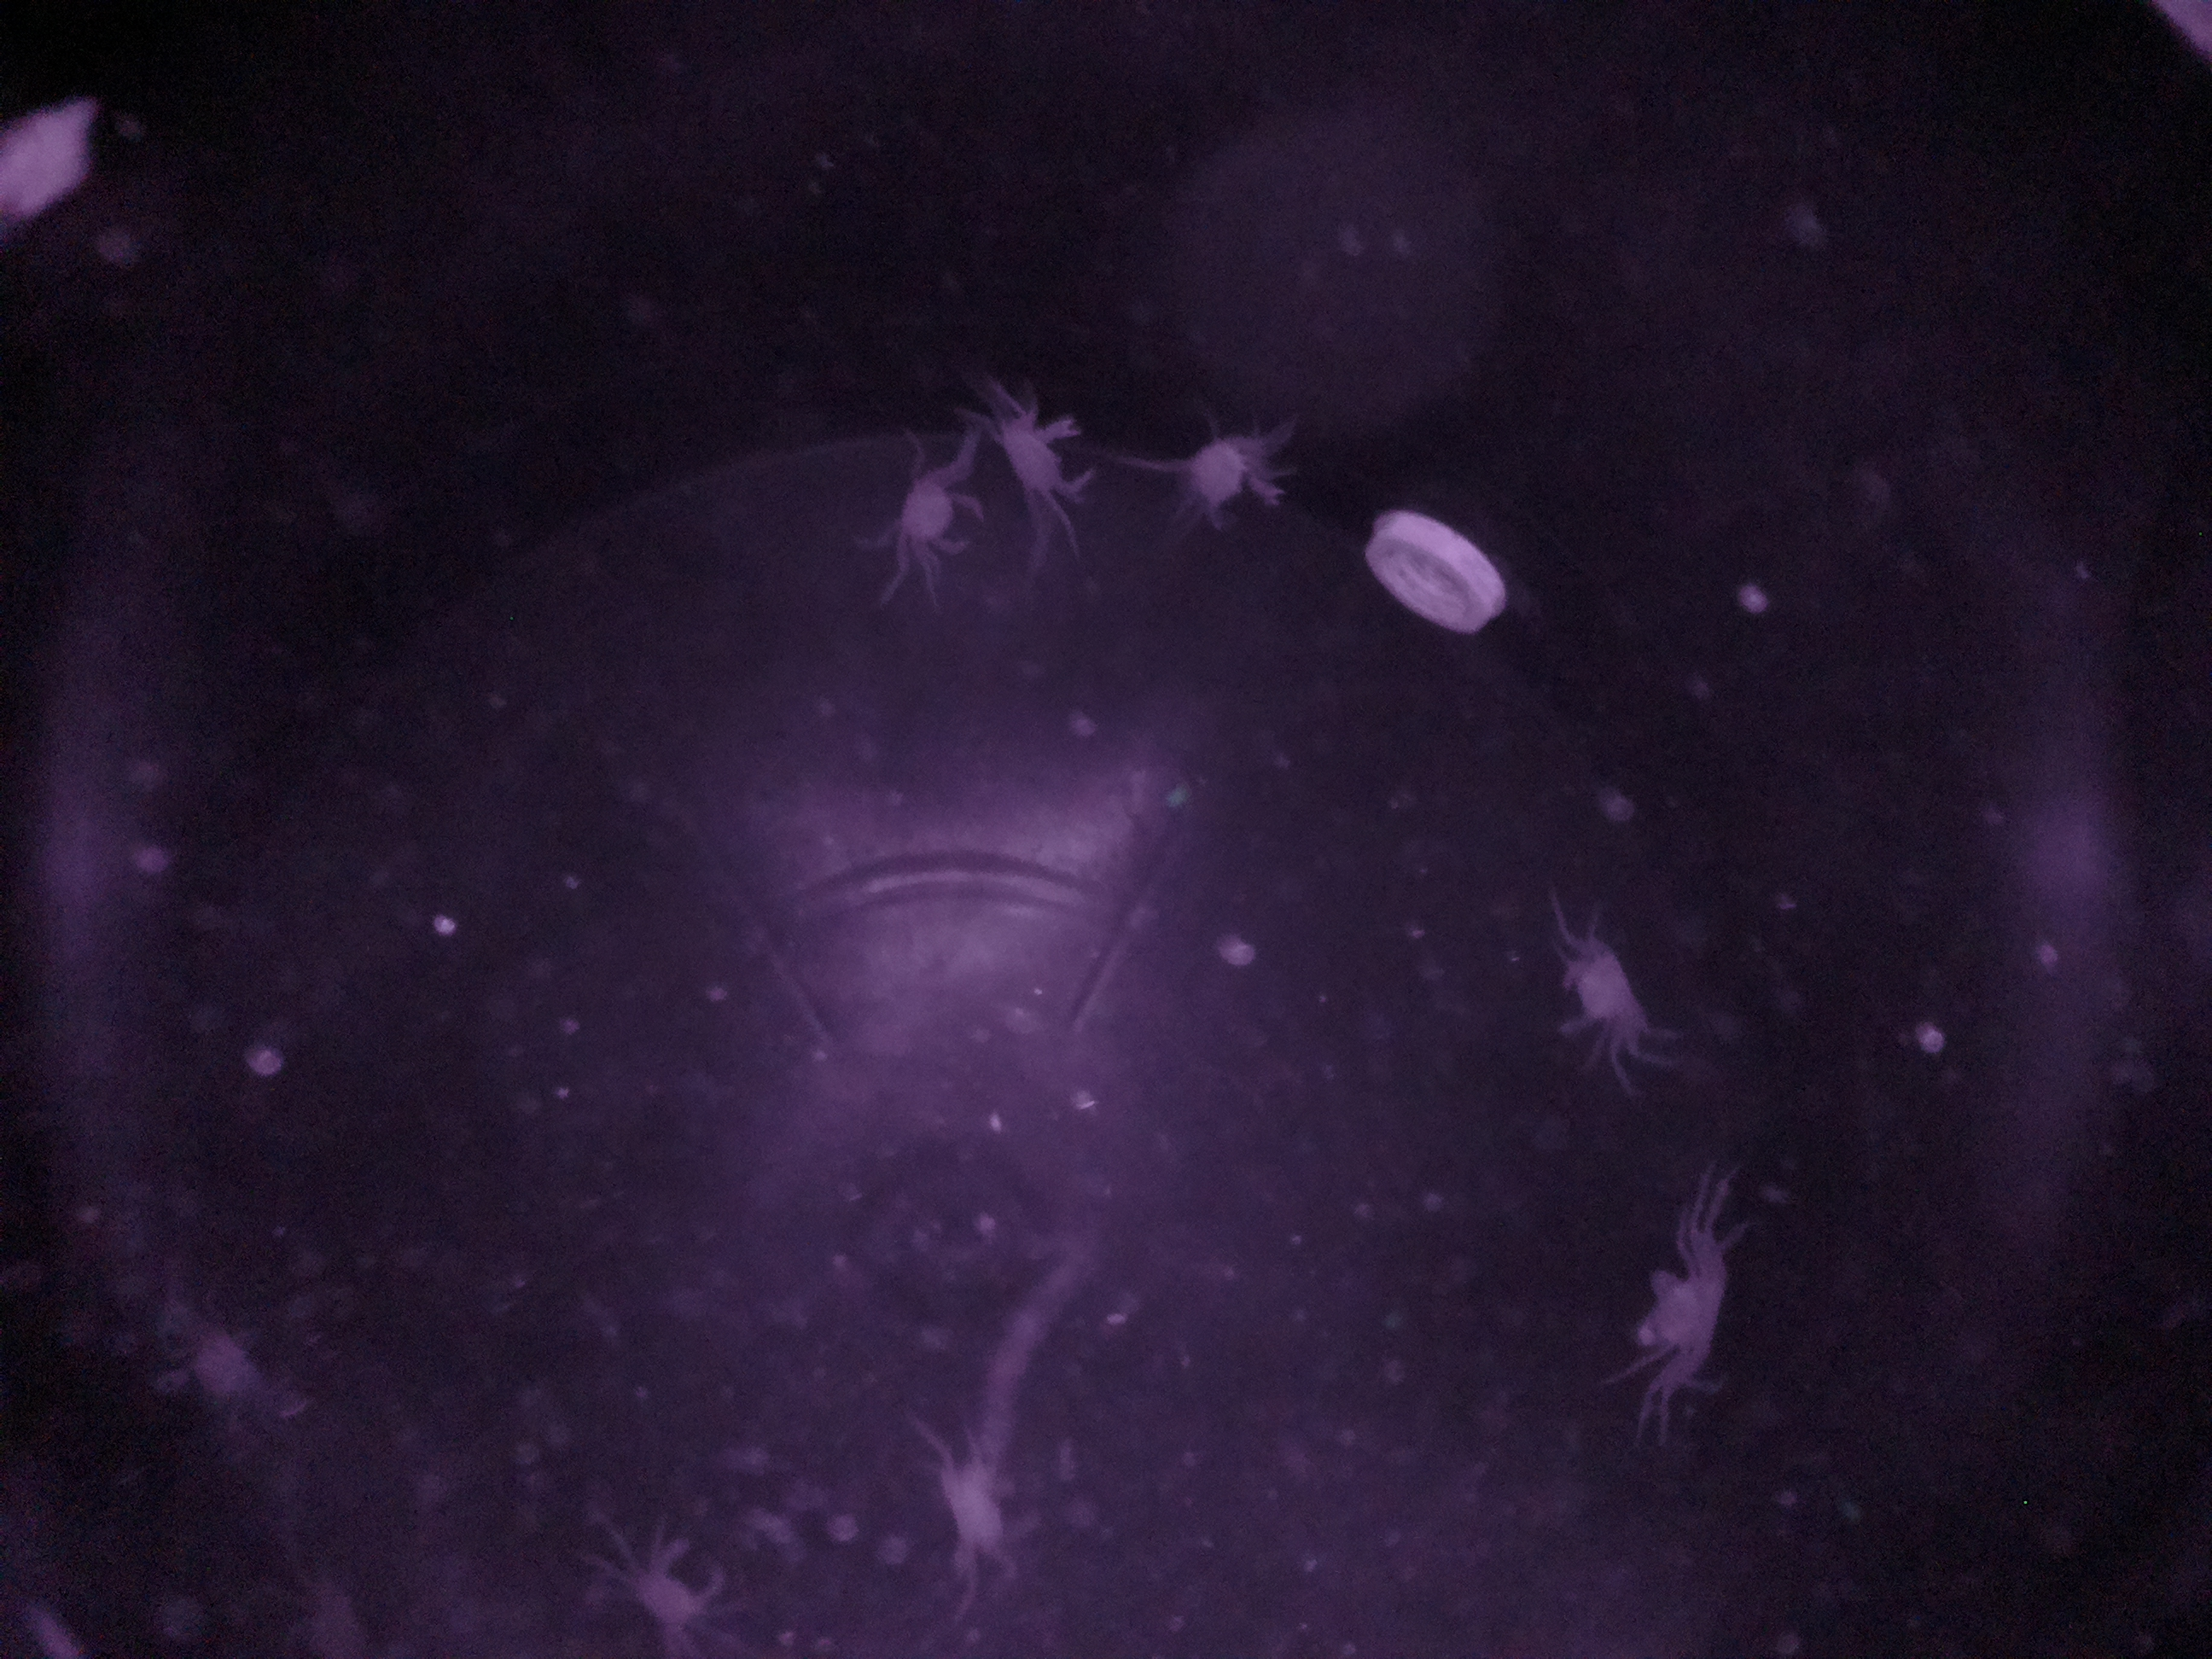Crab: (1609, 1241, 1766, 1401), (1527, 913, 1670, 1061), (862, 450, 1000, 573)
